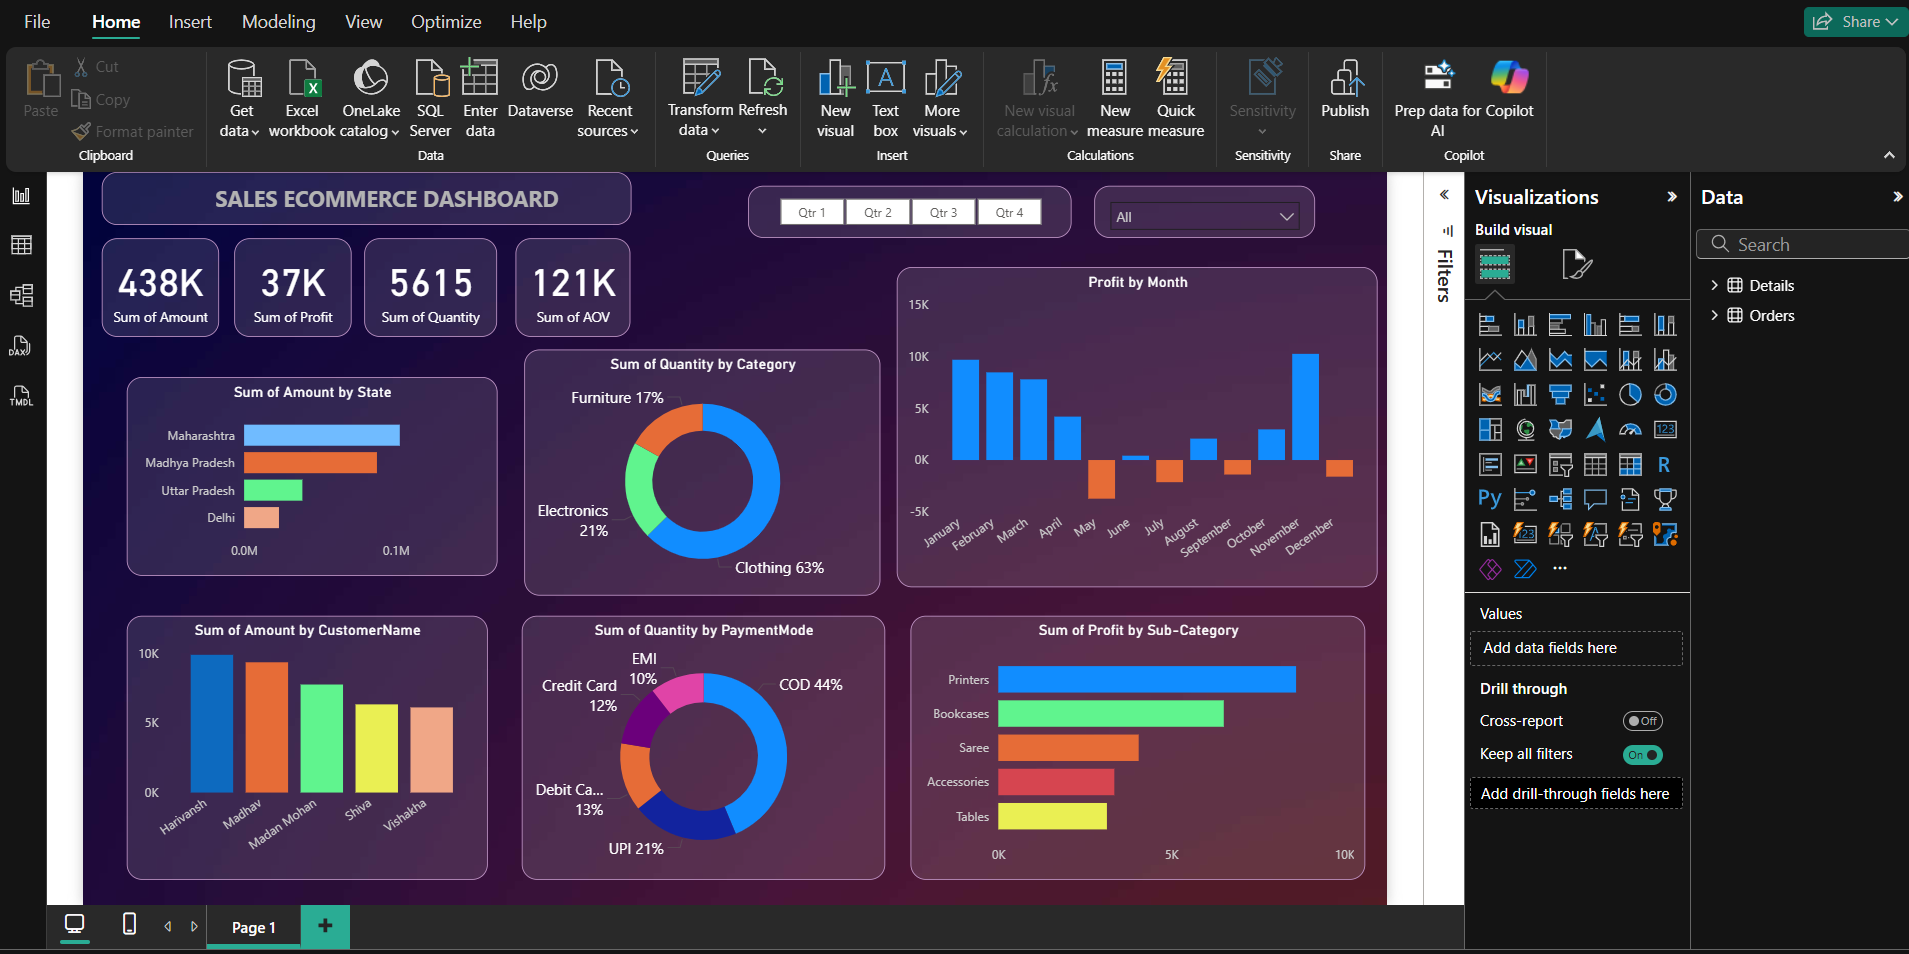

The dashboard page shown, as its layout file describes it:
{"tool":"powerbi","page":{"name":"Page 1","canvas":[1280,720],"ordinal":0},"visuals":[{"type":"textbox","box":[18,0,520,52],"z":0},{"type":"columnChart","title":" Profit by Month","fields":{"Y":["Details.Profit"],"Category":["Orders.Order Date.Variation.Date Hierarchy.Month"]},"box":[798.8,93.3,472.4,314.1],"z":1000},{"type":"barChart","fields":{"Category":["Details.Sub-Category"],"Y":["Details.Profit"]},"box":[812.3,435.6,446.6,258.9],"z":2000},{"type":"donutChart","fields":{"Category":["Details.Category"],"Y":["Details.Quantity"]},"box":[433.6,174.3,349.9,241.5],"z":3000},{"type":"donutChart","fields":{"Y":["Details.Quantity"],"Category":["Details.PaymentMode"]},"box":[430.9,435,356.8,259.3],"z":4000},{"type":"card","fields":{"Values":["Details.Amount"]},"box":[18.4,65,115.3,96.9],"z":5000},{"type":"card","fields":{"Values":["Details.Profit"]},"box":[148.5,65,115.3,96.9],"z":6000},{"type":"card","fields":{"Values":["Details.Quantity"]},"box":[276.1,65,130.1,96.9],"z":7000},{"type":"card","fields":{"Values":["Details.AOV"]},"box":[424.5,65,112.9,96.9],"z":8000},{"type":"barChart","fields":{"Category":["Orders.State"],"Y":["Details.Amount"]},"box":[42.5,201.7,363.6,194.9],"z":9000},{"type":"columnChart","fields":{"Category":["Orders.CustomerName"],"Y":["Details.Amount"]},"box":[42.5,435,354,259.3],"z":10000},{"type":"slicer","fields":{"Values":["Orders.Order Date.Variation.Date Hierarchy.Quarter"]},"box":[652.8,13.5,317.8,51.5],"z":11000},{"type":"slicer","fields":{"Values":["Orders.State"]},"box":[992.6,13.5,217.2,51.5],"z":12000}]}

Visuals, with their boxes on the page's 1280x720 design canvas (x1, y1, x2, y2). These are canvas units, not pixel positions in the 1909x954 screenshot, which may show the page scaled, cropped or inside an application window:
textbox: box=[18, 0, 538, 52]
" Profit by Month" columnChart: box=[799, 93, 1271, 407]
barChart - Details.Sub-Category x Details.Profit: box=[812, 436, 1259, 694]
donutChart - Details.Category x Details.Quantity: box=[434, 174, 784, 416]
donutChart - Details.Quantity x Details.PaymentMode: box=[431, 435, 788, 694]
card - Details.Amount: box=[18, 65, 134, 162]
card - Details.Profit: box=[148, 65, 264, 162]
card - Details.Quantity: box=[276, 65, 406, 162]
card - Details.AOV: box=[424, 65, 537, 162]
barChart - Orders.State x Details.Amount: box=[42, 202, 406, 397]
columnChart - Orders.CustomerName x Details.Amount: box=[42, 435, 396, 694]
slicer - Orders.Order Date.Variation.Date Hierarchy.Quarter: box=[653, 14, 971, 65]
slicer - Orders.State: box=[993, 14, 1210, 65]
